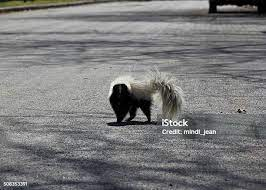skunk: (108, 72, 186, 119)
